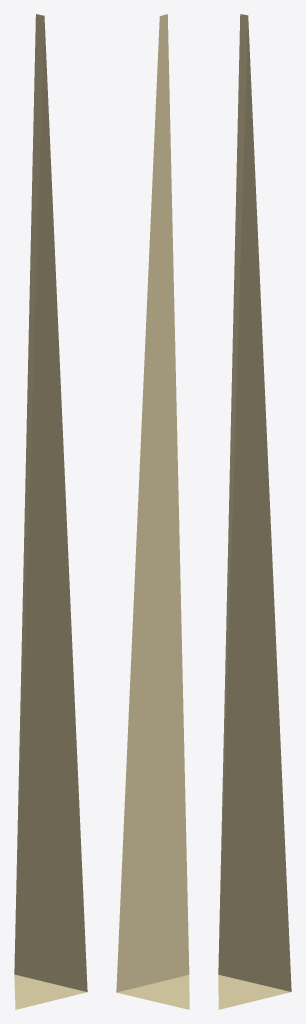
Rendered from field_wheat_leaf.glb.
3 renders of one model, left to right at view 1: azimuth 90°, elevation 25°; view 2: azimuth 150°, elevation 25°; view 3: azimuth 330°, elevation 25°, orthographic.
Parts seen in each view (by area): view 1: Leaf; view 2: Leaf; view 3: Leaf.
Part boxes in pixels (box(x1,y1,x2,y2)): Leaf: box(14, 14, 87, 1009); Leaf: box(116, 14, 189, 1009); Leaf: box(218, 14, 291, 1009).
Bounding box in the file's own units: 0.078 × 1 × 0.068.
